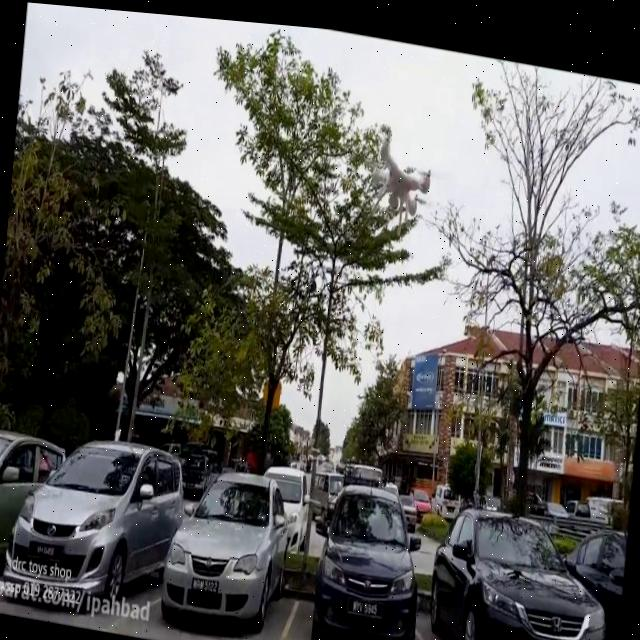drone: (362, 127, 437, 233)
